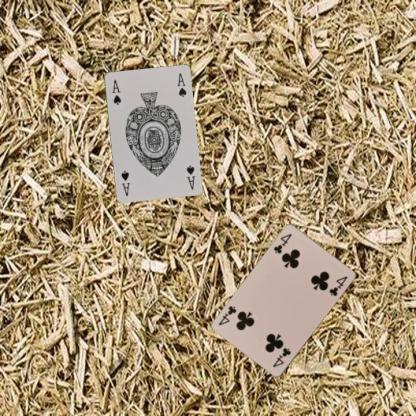4c: (270, 345, 292, 369), (271, 231, 293, 255)
As: (109, 77, 122, 106), (184, 162, 196, 191)
